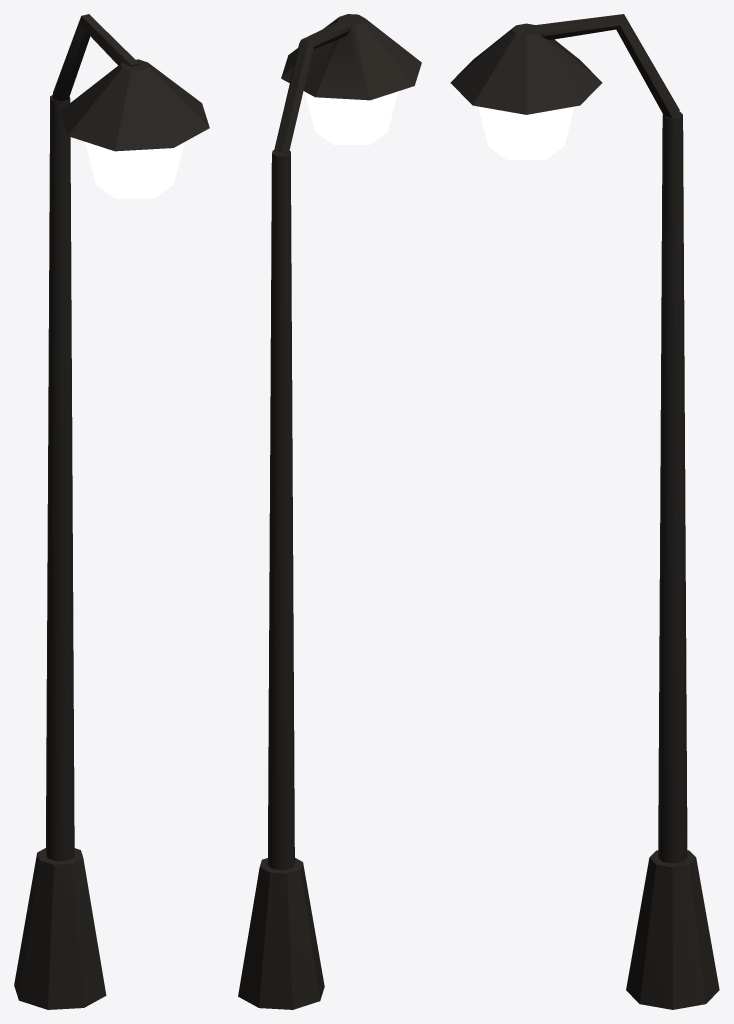
The model's file is street_lamp.glb.
The picture shows the model from 3 angles, left to right: view 1: azimuth 30°, elevation 25°; view 2: azimuth 150°, elevation 25°; view 3: azimuth 270°, elevation 25°; orthographic projection. The views are drawn at different scales.
Parts seen in each view (by area): view 1: street_lamp_mesh; view 2: street_lamp_mesh; view 3: street_lamp_mesh.
Part boxes in pixels (x1=…): street_lamp_mesh: x1=14, y1=14, x2=209, y2=1009; street_lamp_mesh: x1=238, y1=14, x2=421, y2=1009; street_lamp_mesh: x1=450, y1=14, x2=719, y2=1009.
Bounding box in the file's own units: 0.52 × 3.67 × 0.92.
